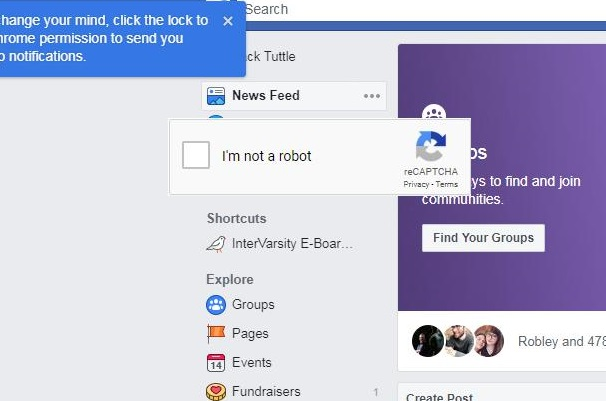captcha: (182, 141, 311, 169)
